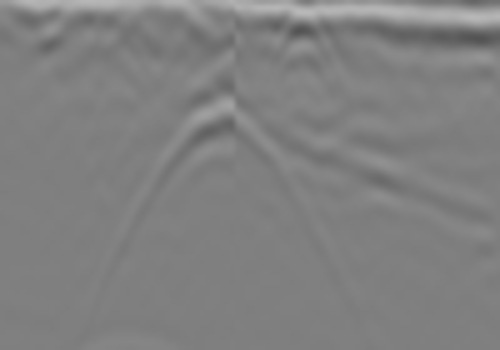hyperbola: (99, 104, 340, 339), (257, 2, 357, 100)
